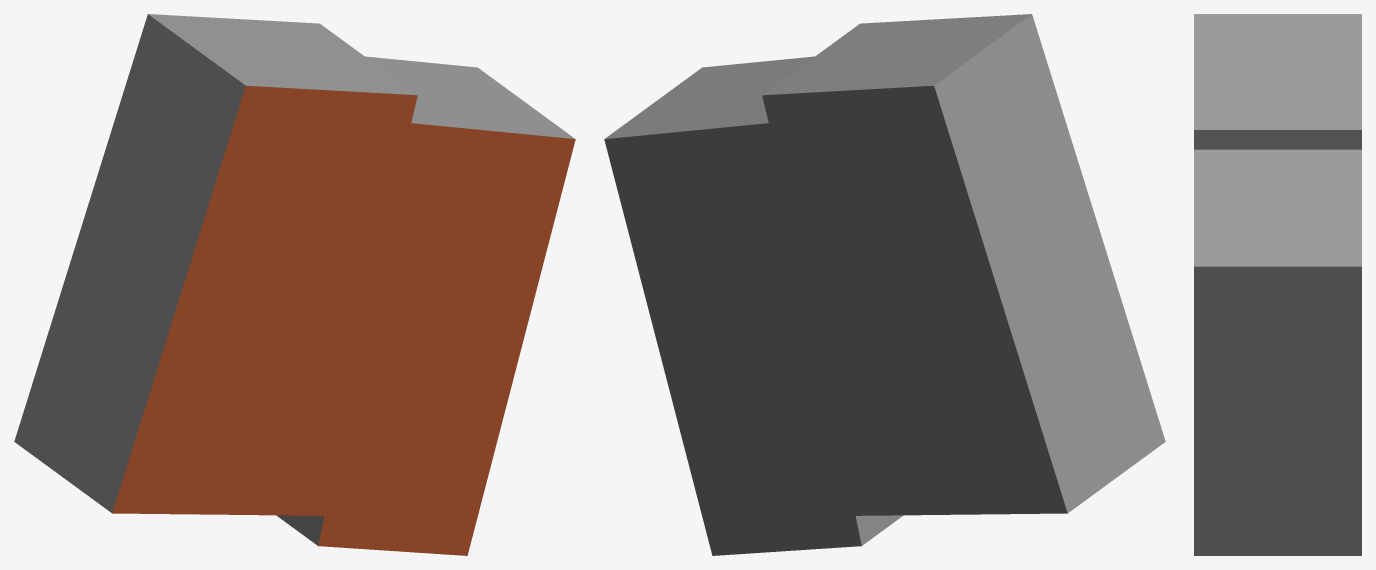
The model's file is construction_3983_assumed_A_Casa_h6m.obj.
The picture shows the model from 3 angles, left to right: view 1: azimuth 30°, elevation 25°; view 2: azimuth 150°, elevation 25°; view 3: azimuth 270°, elevation 25°; orthographic projection. The views are drawn at different scales.
Visible parts, largest first — view 1: construction_3983_assumed_A_Casa; view 2: construction_3983_assumed_A_Casa; view 3: construction_3983_assumed_A_Casa.
Part boxes in pixels (bbox=[...]): construction_3983_assumed_A_Casa: bbox=[14, 14, 575, 555]; construction_3983_assumed_A_Casa: bbox=[604, 14, 1165, 555]; construction_3983_assumed_A_Casa: bbox=[1194, 14, 1361, 555].
Size of the model in its own units: 16.38 by 17.71 by 6.
